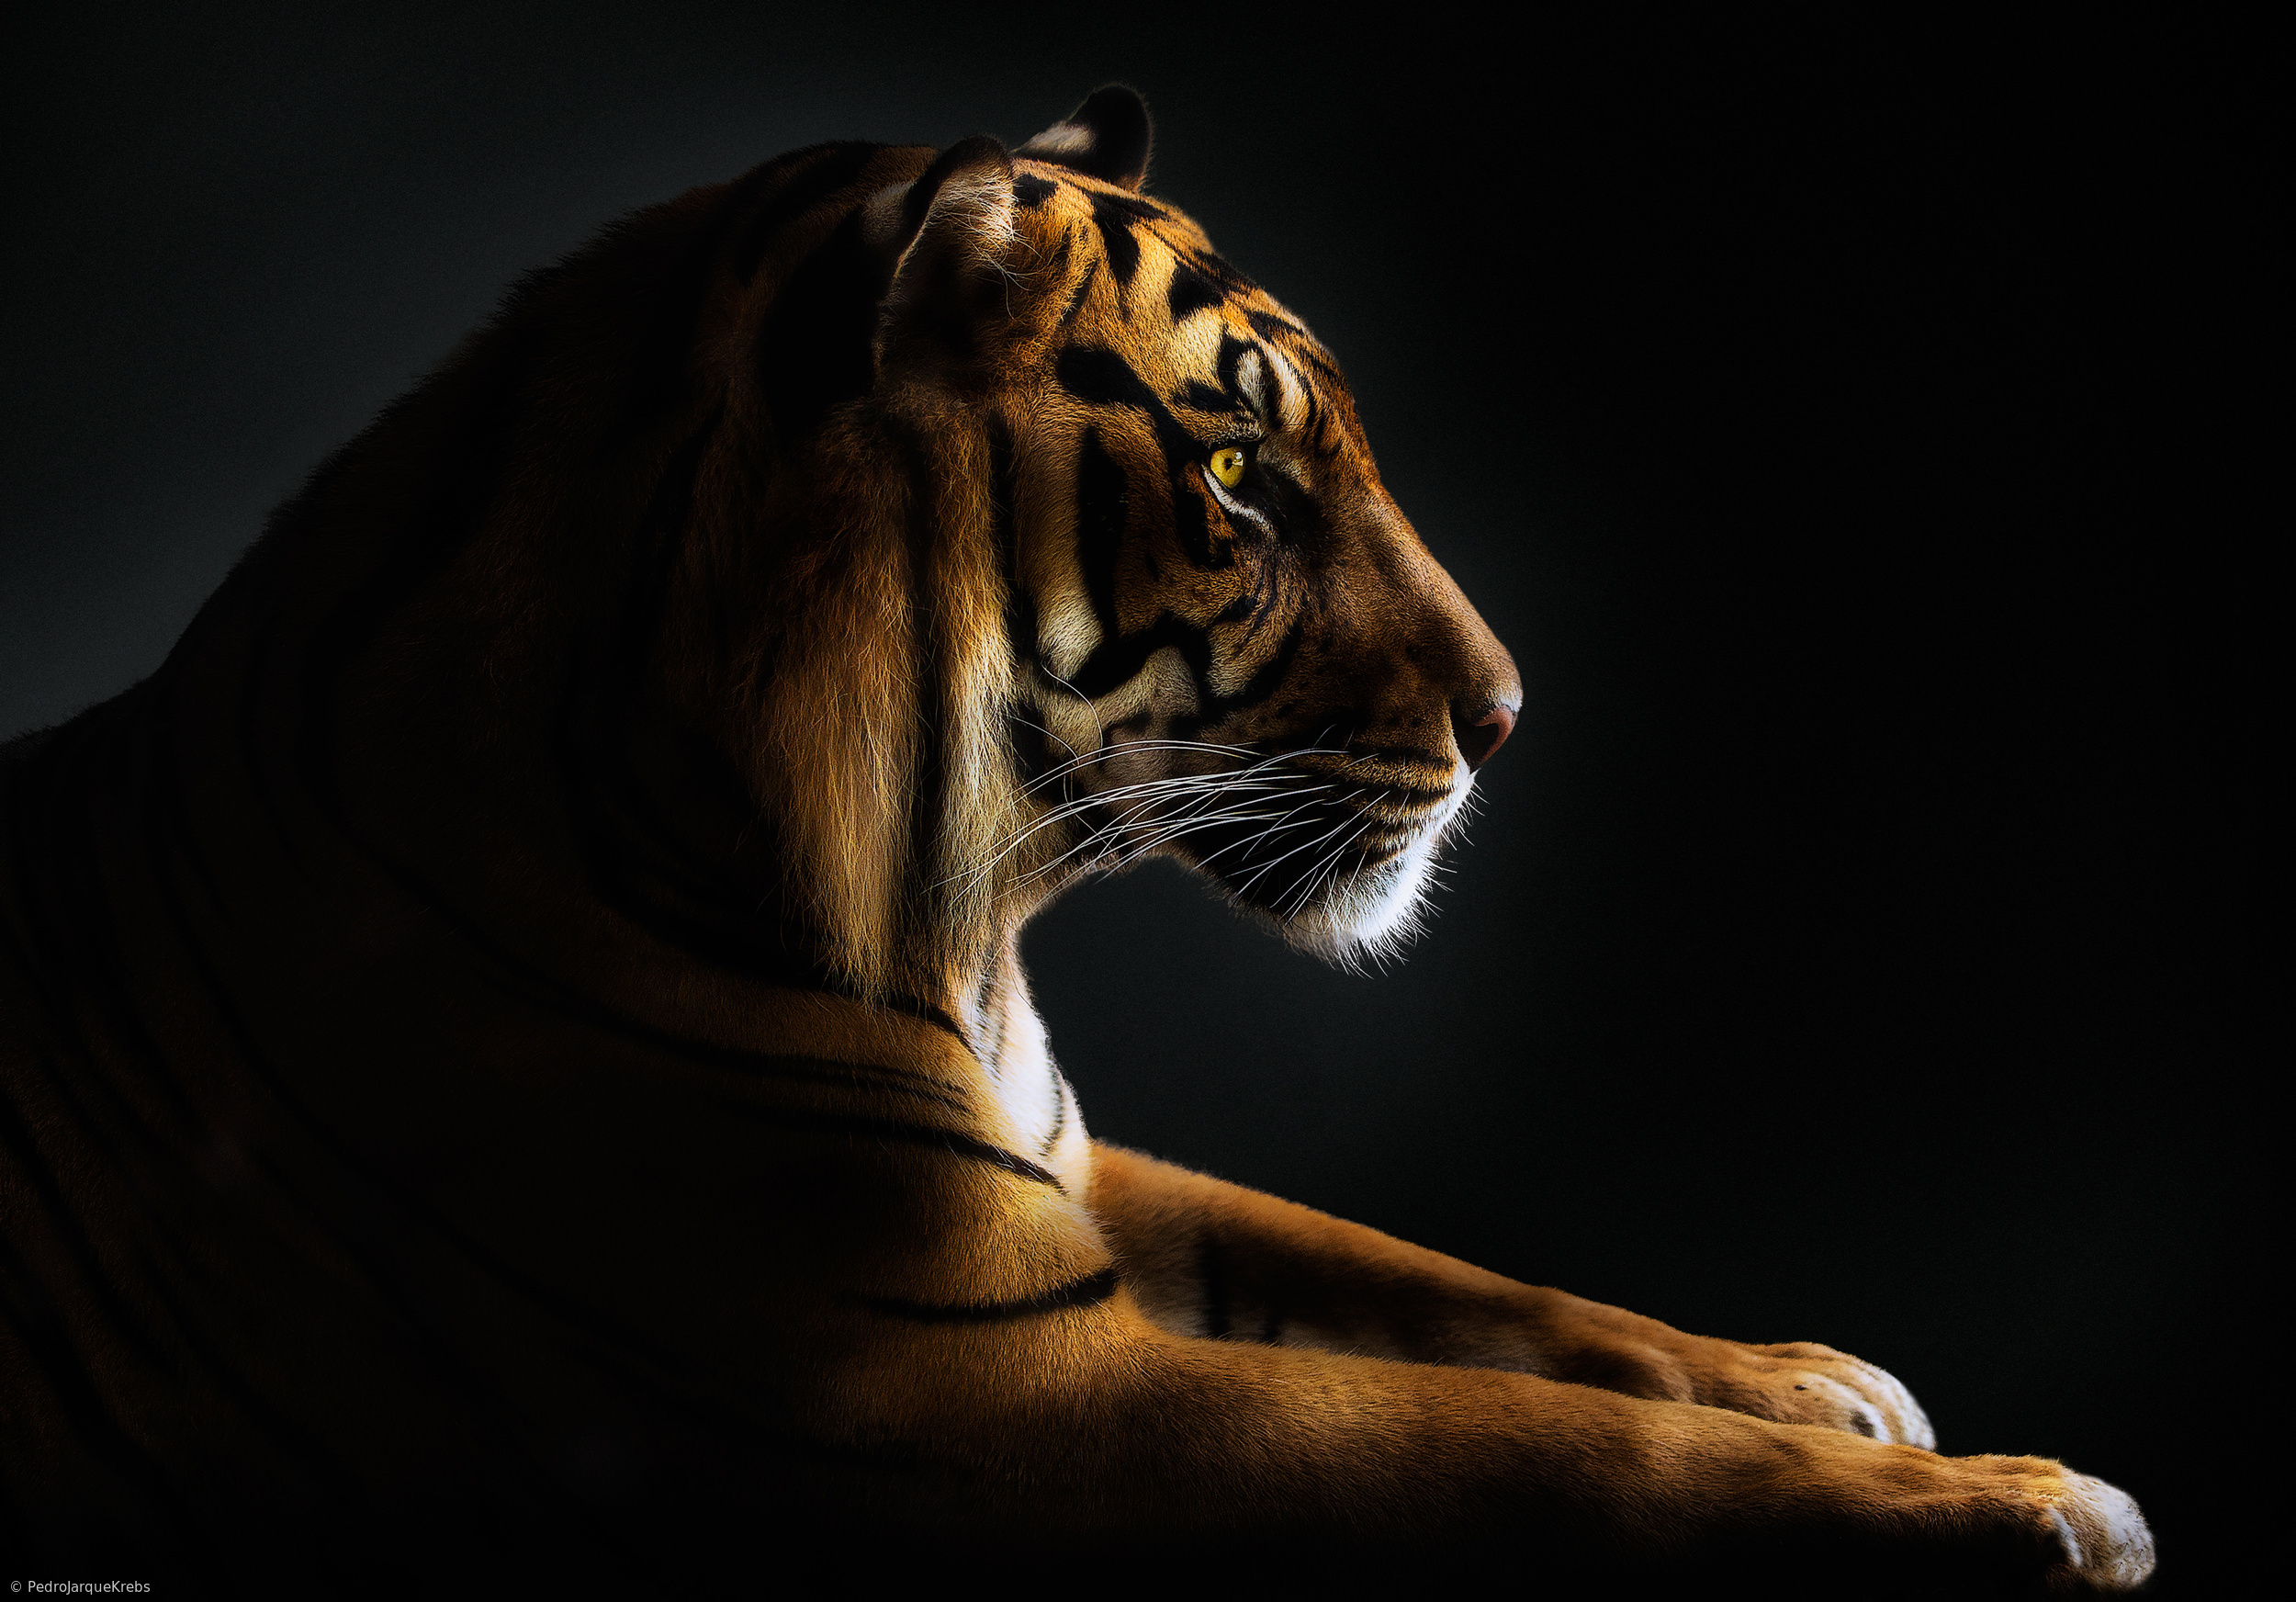tiger: (152, 58, 2167, 1536)
